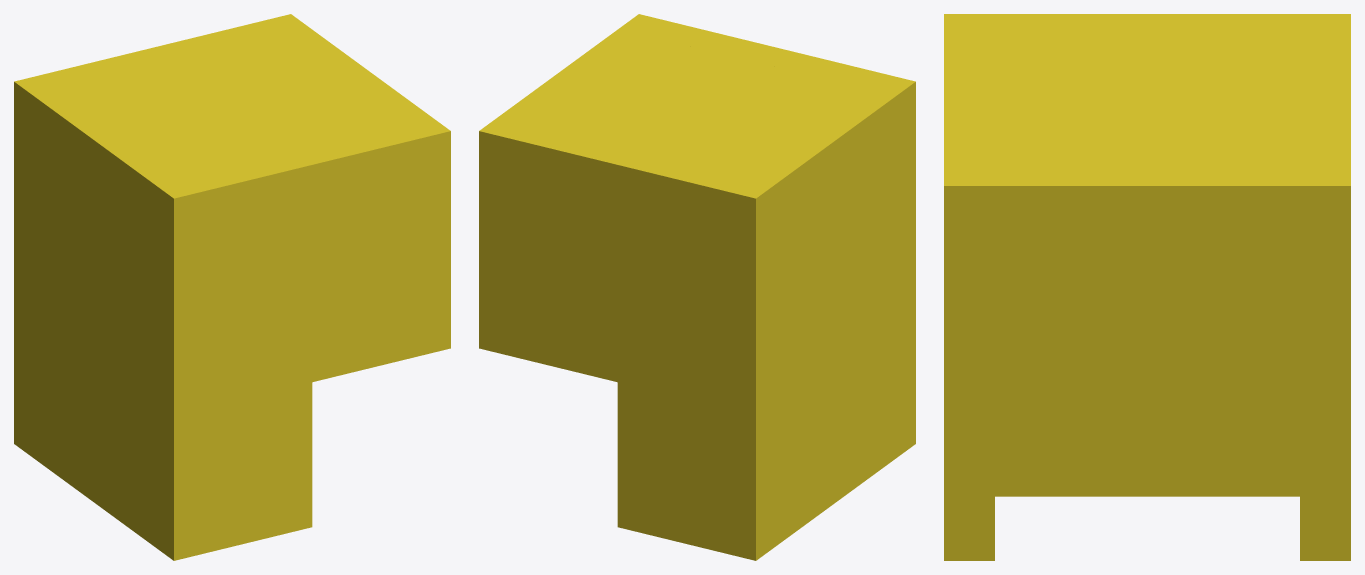
The model's file is golden_arm_R.fbx.
3 views of the same model, side by side, from view 1: azimuth 30°, elevation 25°; view 2: azimuth 150°, elevation 25°; view 3: azimuth 270°, elevation 25° (orthographic). The views are drawn at different scales.
Visible parts, largest first — view 1: Chestplate:Gold-Arm.R; view 2: Chestplate:Gold-Arm.R; view 3: Chestplate:Gold-Arm.R.
Boxes of the visible parts, x1=… form: Chestplate:Gold-Arm.R: x1=14, y1=14, x2=450, y2=560; Chestplate:Gold-Arm.R: x1=479, y1=14, x2=915, y2=560; Chestplate:Gold-Arm.R: x1=944, y1=14, x2=1350, y2=560.
Bounding box in the file's own units: 28.33 × 35.41 × 28.33.
